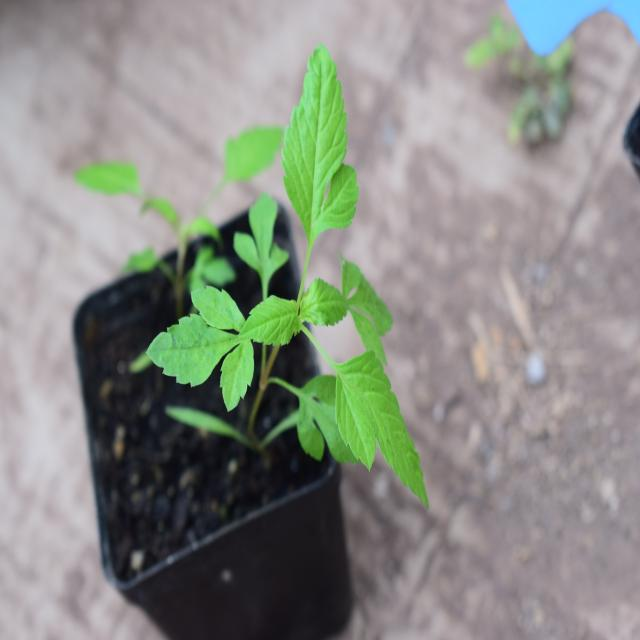Bidens pilosa: (136, 58, 432, 504)
